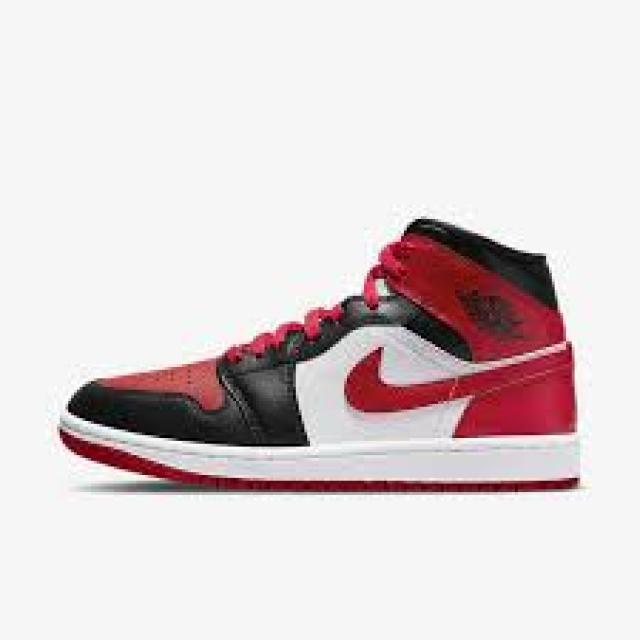shoes: (57, 213, 586, 502)
